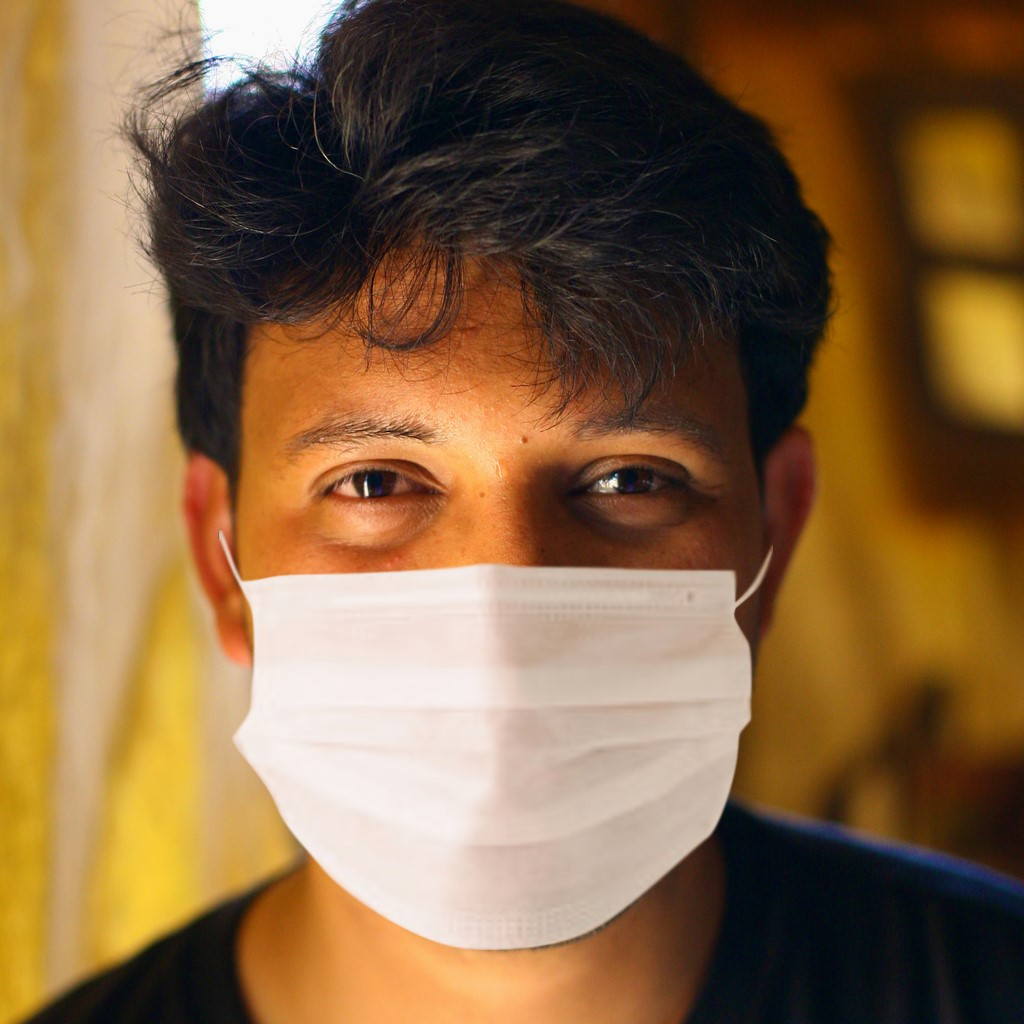con_mascara: (209, 164, 769, 953)
